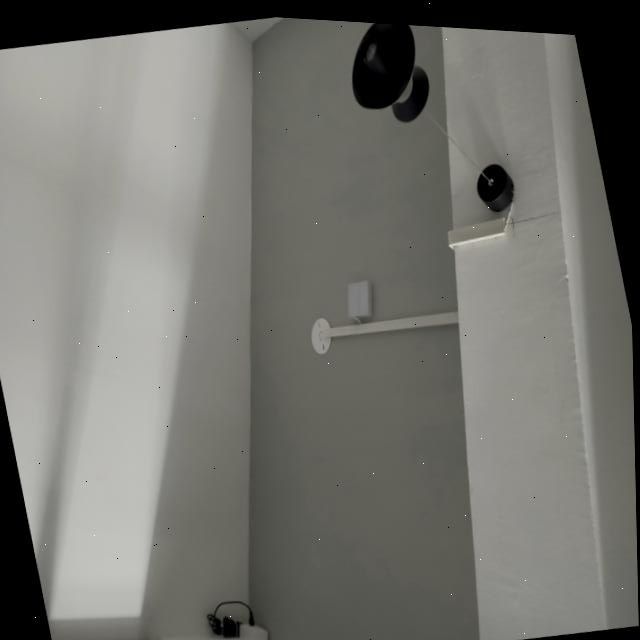fluorescent tube: (319, 15, 548, 235)
